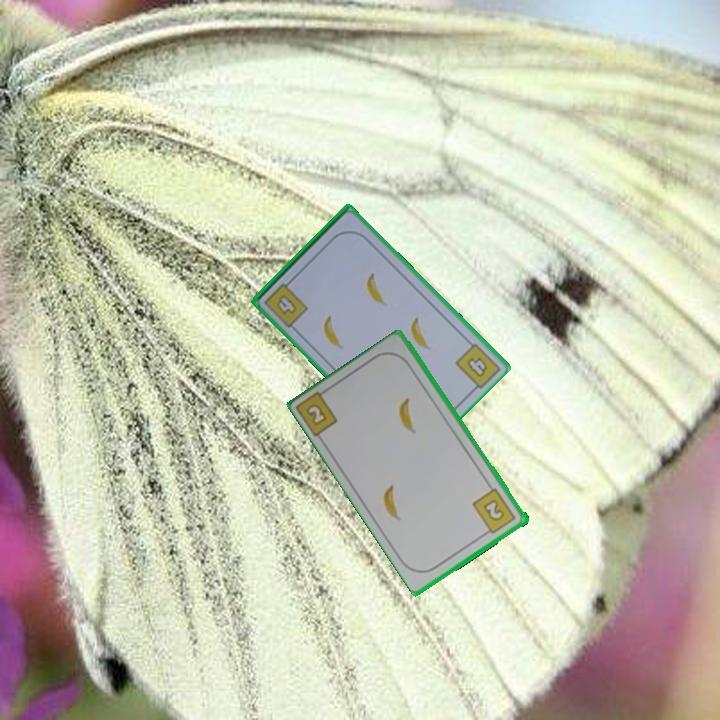2b: (469, 485, 519, 538), (303, 400, 330, 429)
4b: (260, 275, 311, 330), (463, 353, 491, 381)
